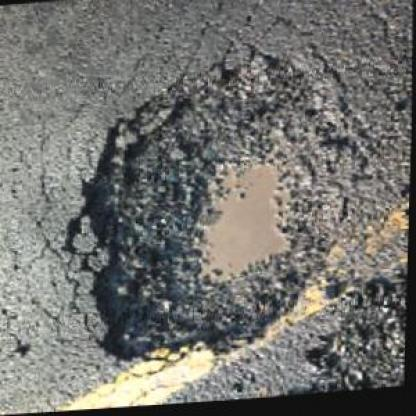pothole: (53, 43, 373, 372)
